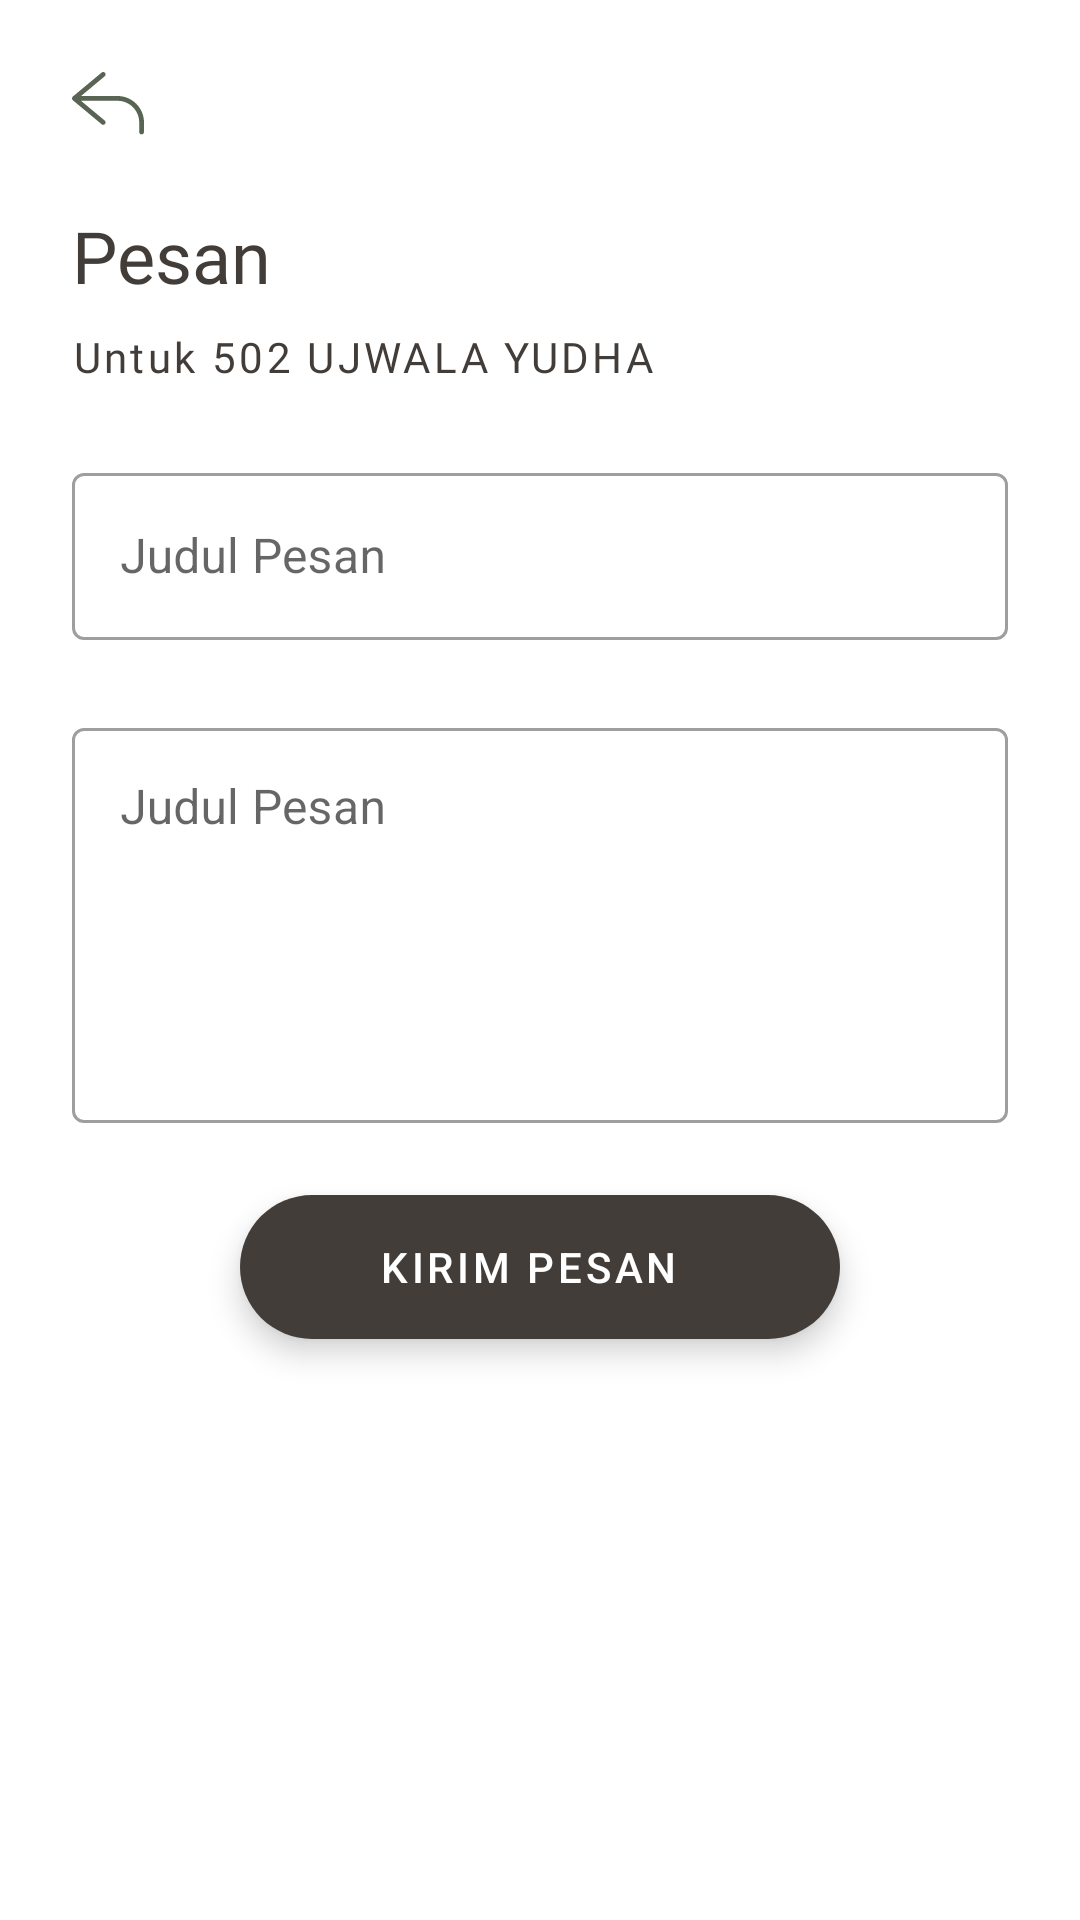

Point at icon controls on the screen. Image size 1080w x 1920h, points as [x,y].
back: [108,103]
